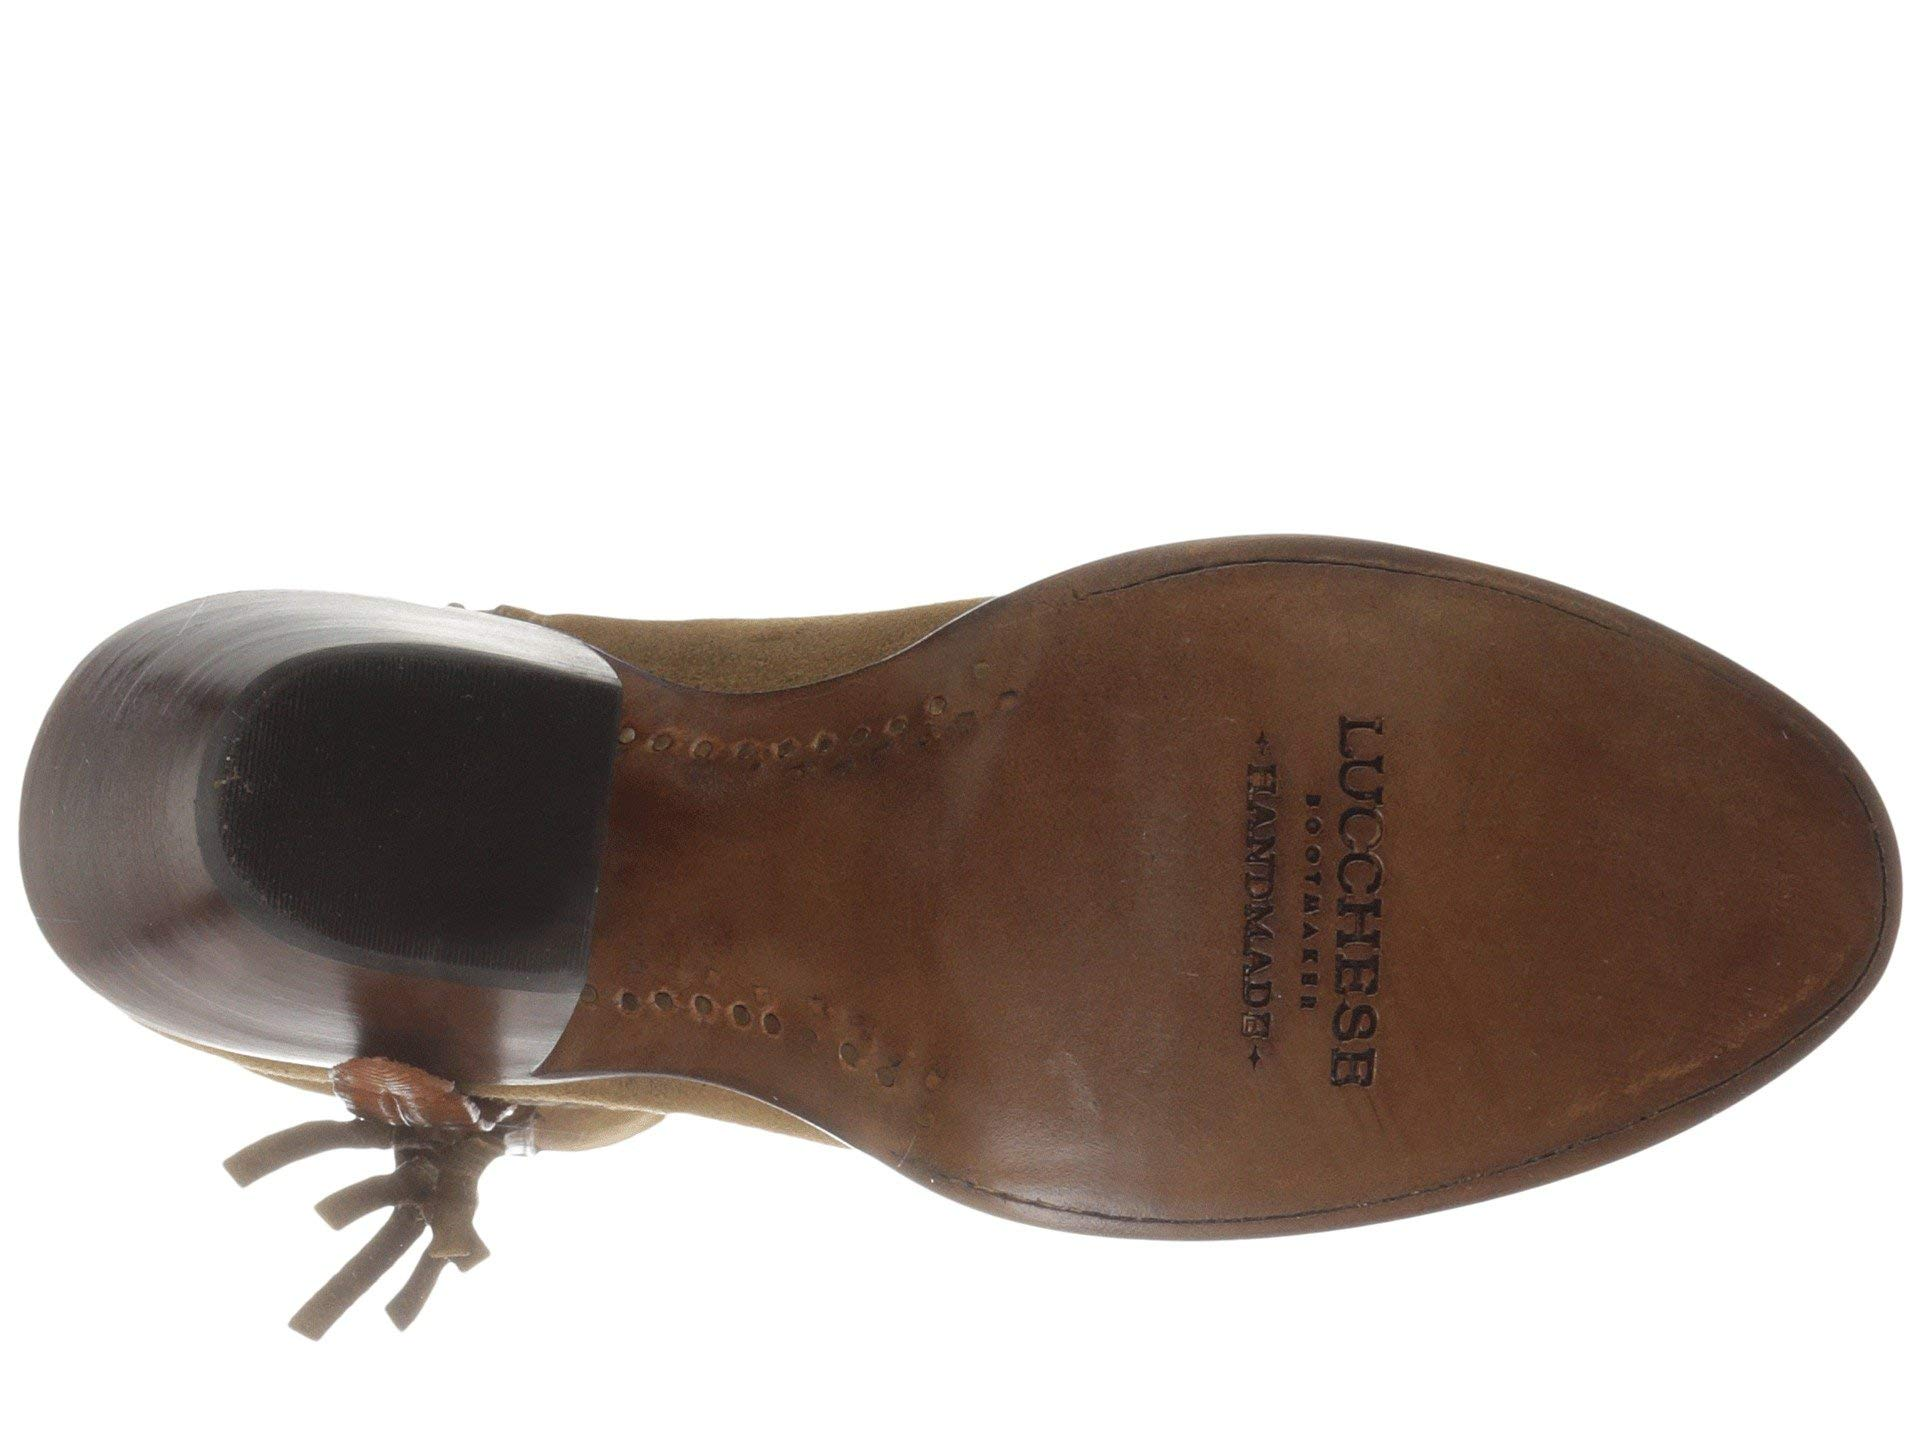text: (1167, 650, 1630, 1104)
